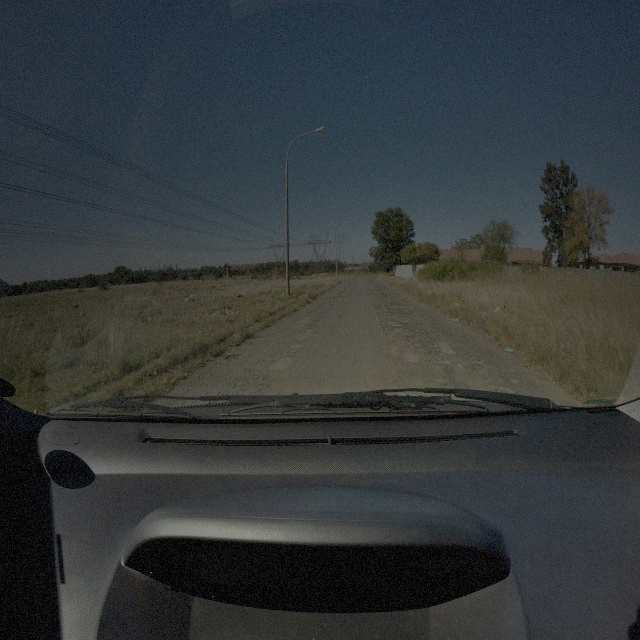pothole: (430, 355, 451, 367), (408, 334, 422, 349), (386, 302, 401, 314), (497, 386, 517, 395), (396, 324, 410, 335), (474, 360, 483, 365)
